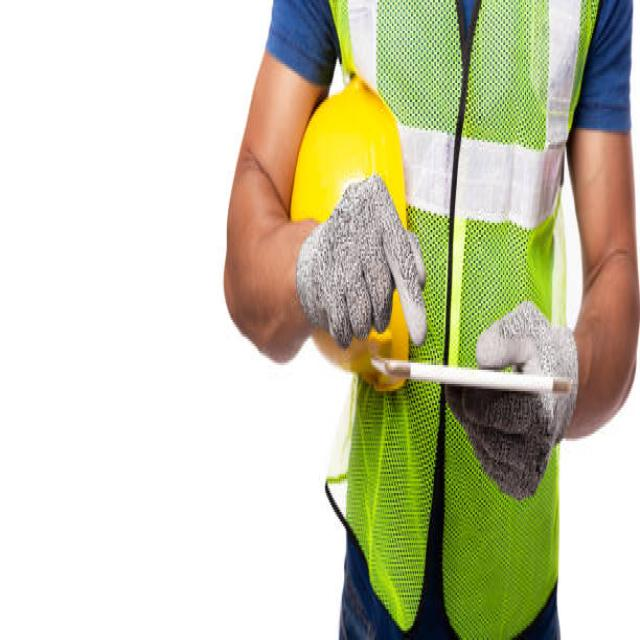gloves: (448, 306, 582, 495), (299, 178, 426, 348)
